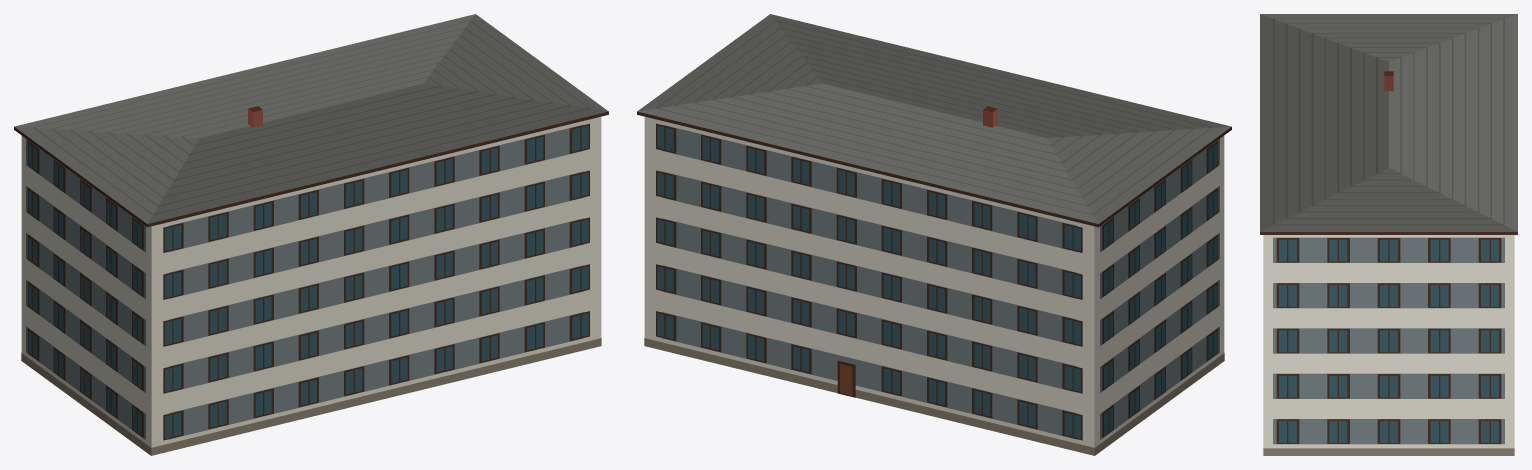
File: modernist-walk-up.glb
3 views of the same model, side by side, from view 1: azimuth 30°, elevation 25°; view 2: azimuth 150°, elevation 25°; view 3: azimuth 270°, elevation 25° (orthographic). The views are drawn at different scales.
Visible parts, largest first — view 1: Modernist walk-up; view 2: Modernist walk-up; view 3: Modernist walk-up.
Part boxes in pixels (left/top/right/bottom): Modernist walk-up: left=14, top=14, right=608, bottom=455; Modernist walk-up: left=637, top=14, right=1231, bottom=455; Modernist walk-up: left=1260, top=14, right=1517, bottom=455.
Size of the model in its own units: 32.98 by 17.61 by 16.49.
